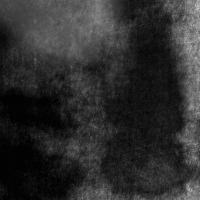patches: (98, 2, 193, 196), (102, 37, 192, 127), (0, 0, 124, 65), (1, 133, 83, 196), (1, 73, 76, 134), (1, 1, 42, 48)
